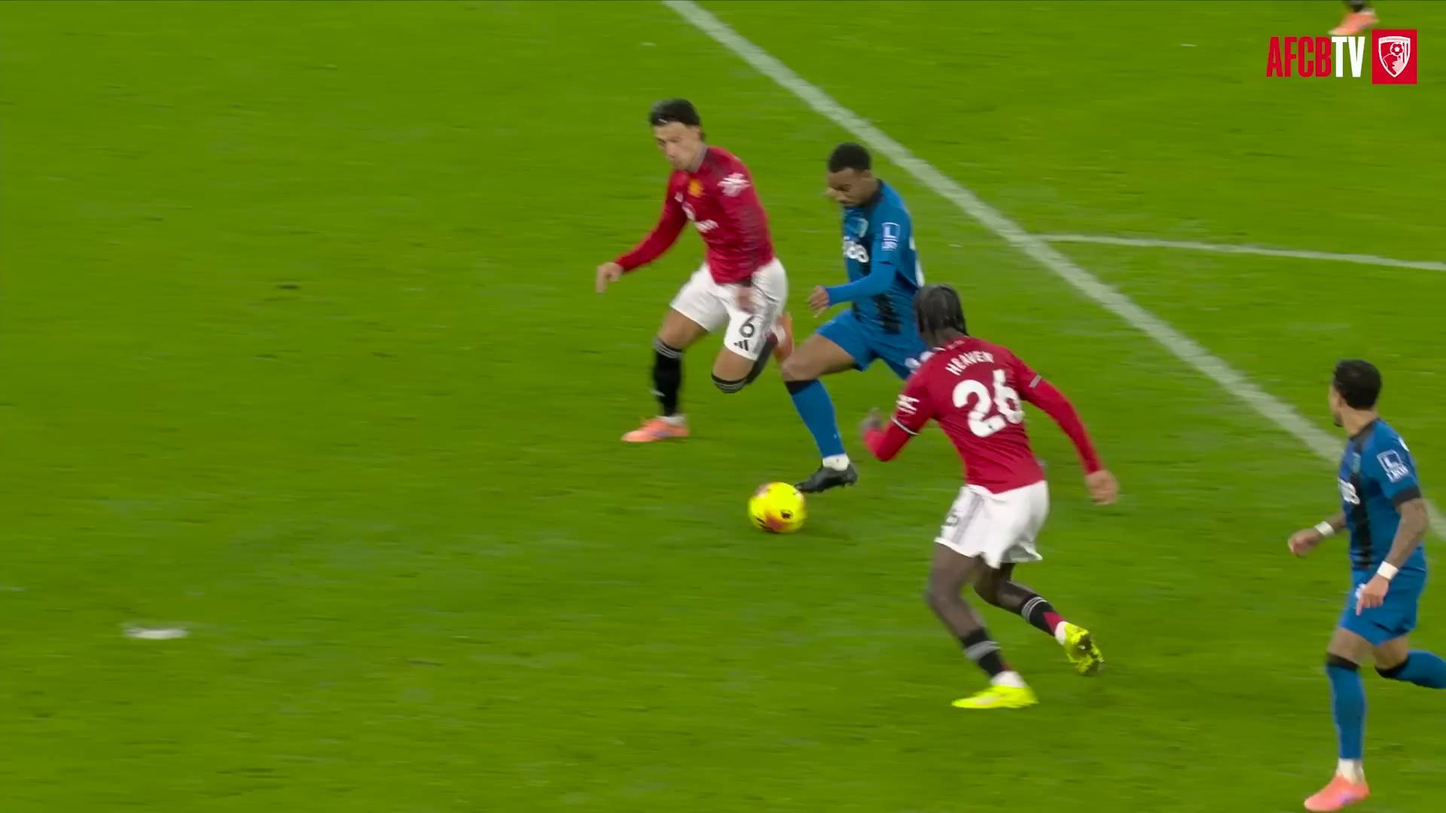football: (749, 482, 805, 532)
player: (864, 285, 1117, 708), (1289, 360, 1445, 811), (596, 99, 792, 441), (781, 143, 925, 492), (1330, 0, 1377, 34)
